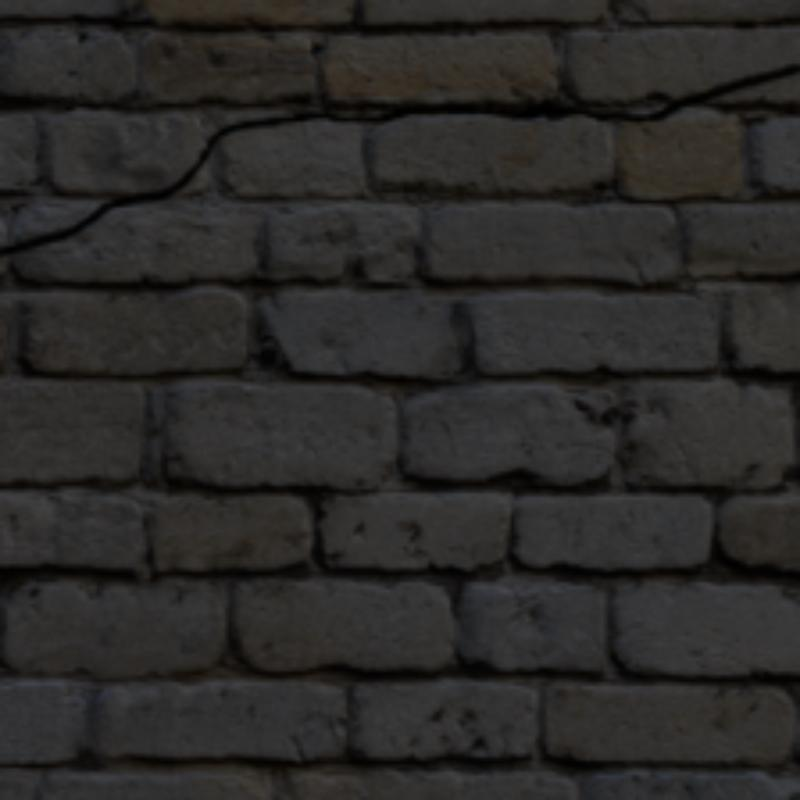pothole: (0, 104, 582, 254), (582, 64, 796, 121)
